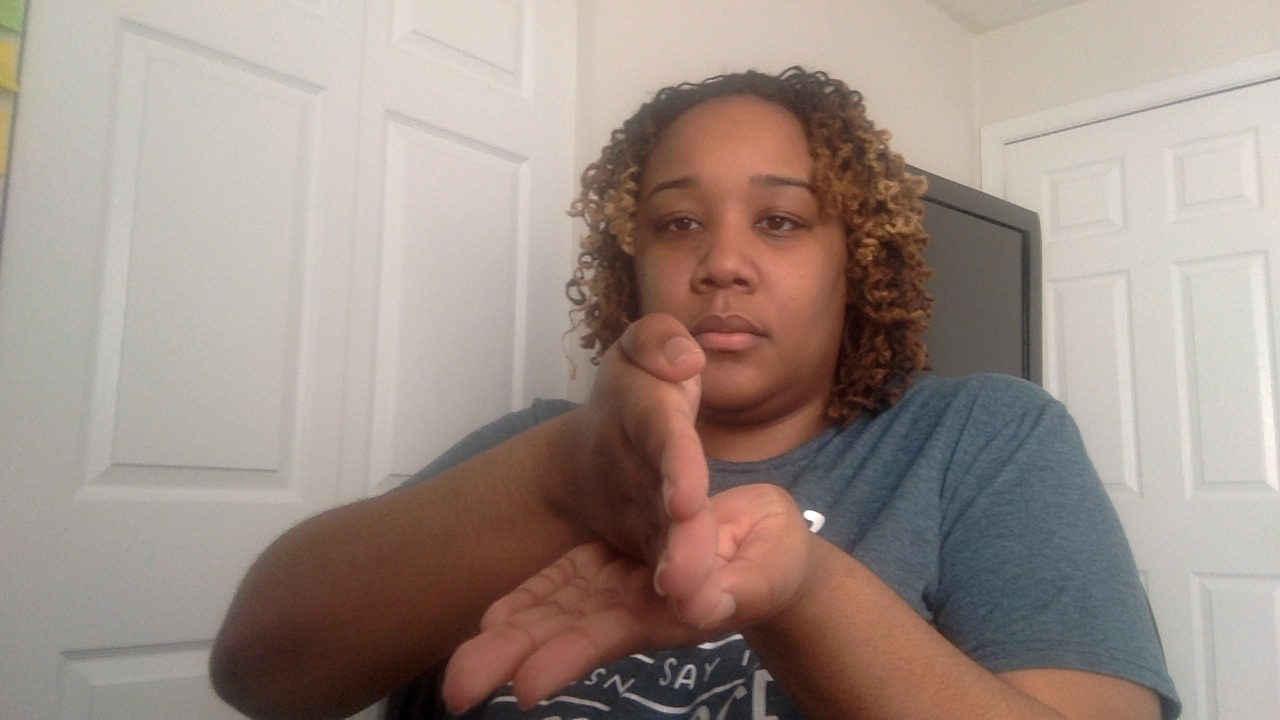stop: (453, 313, 816, 720)
